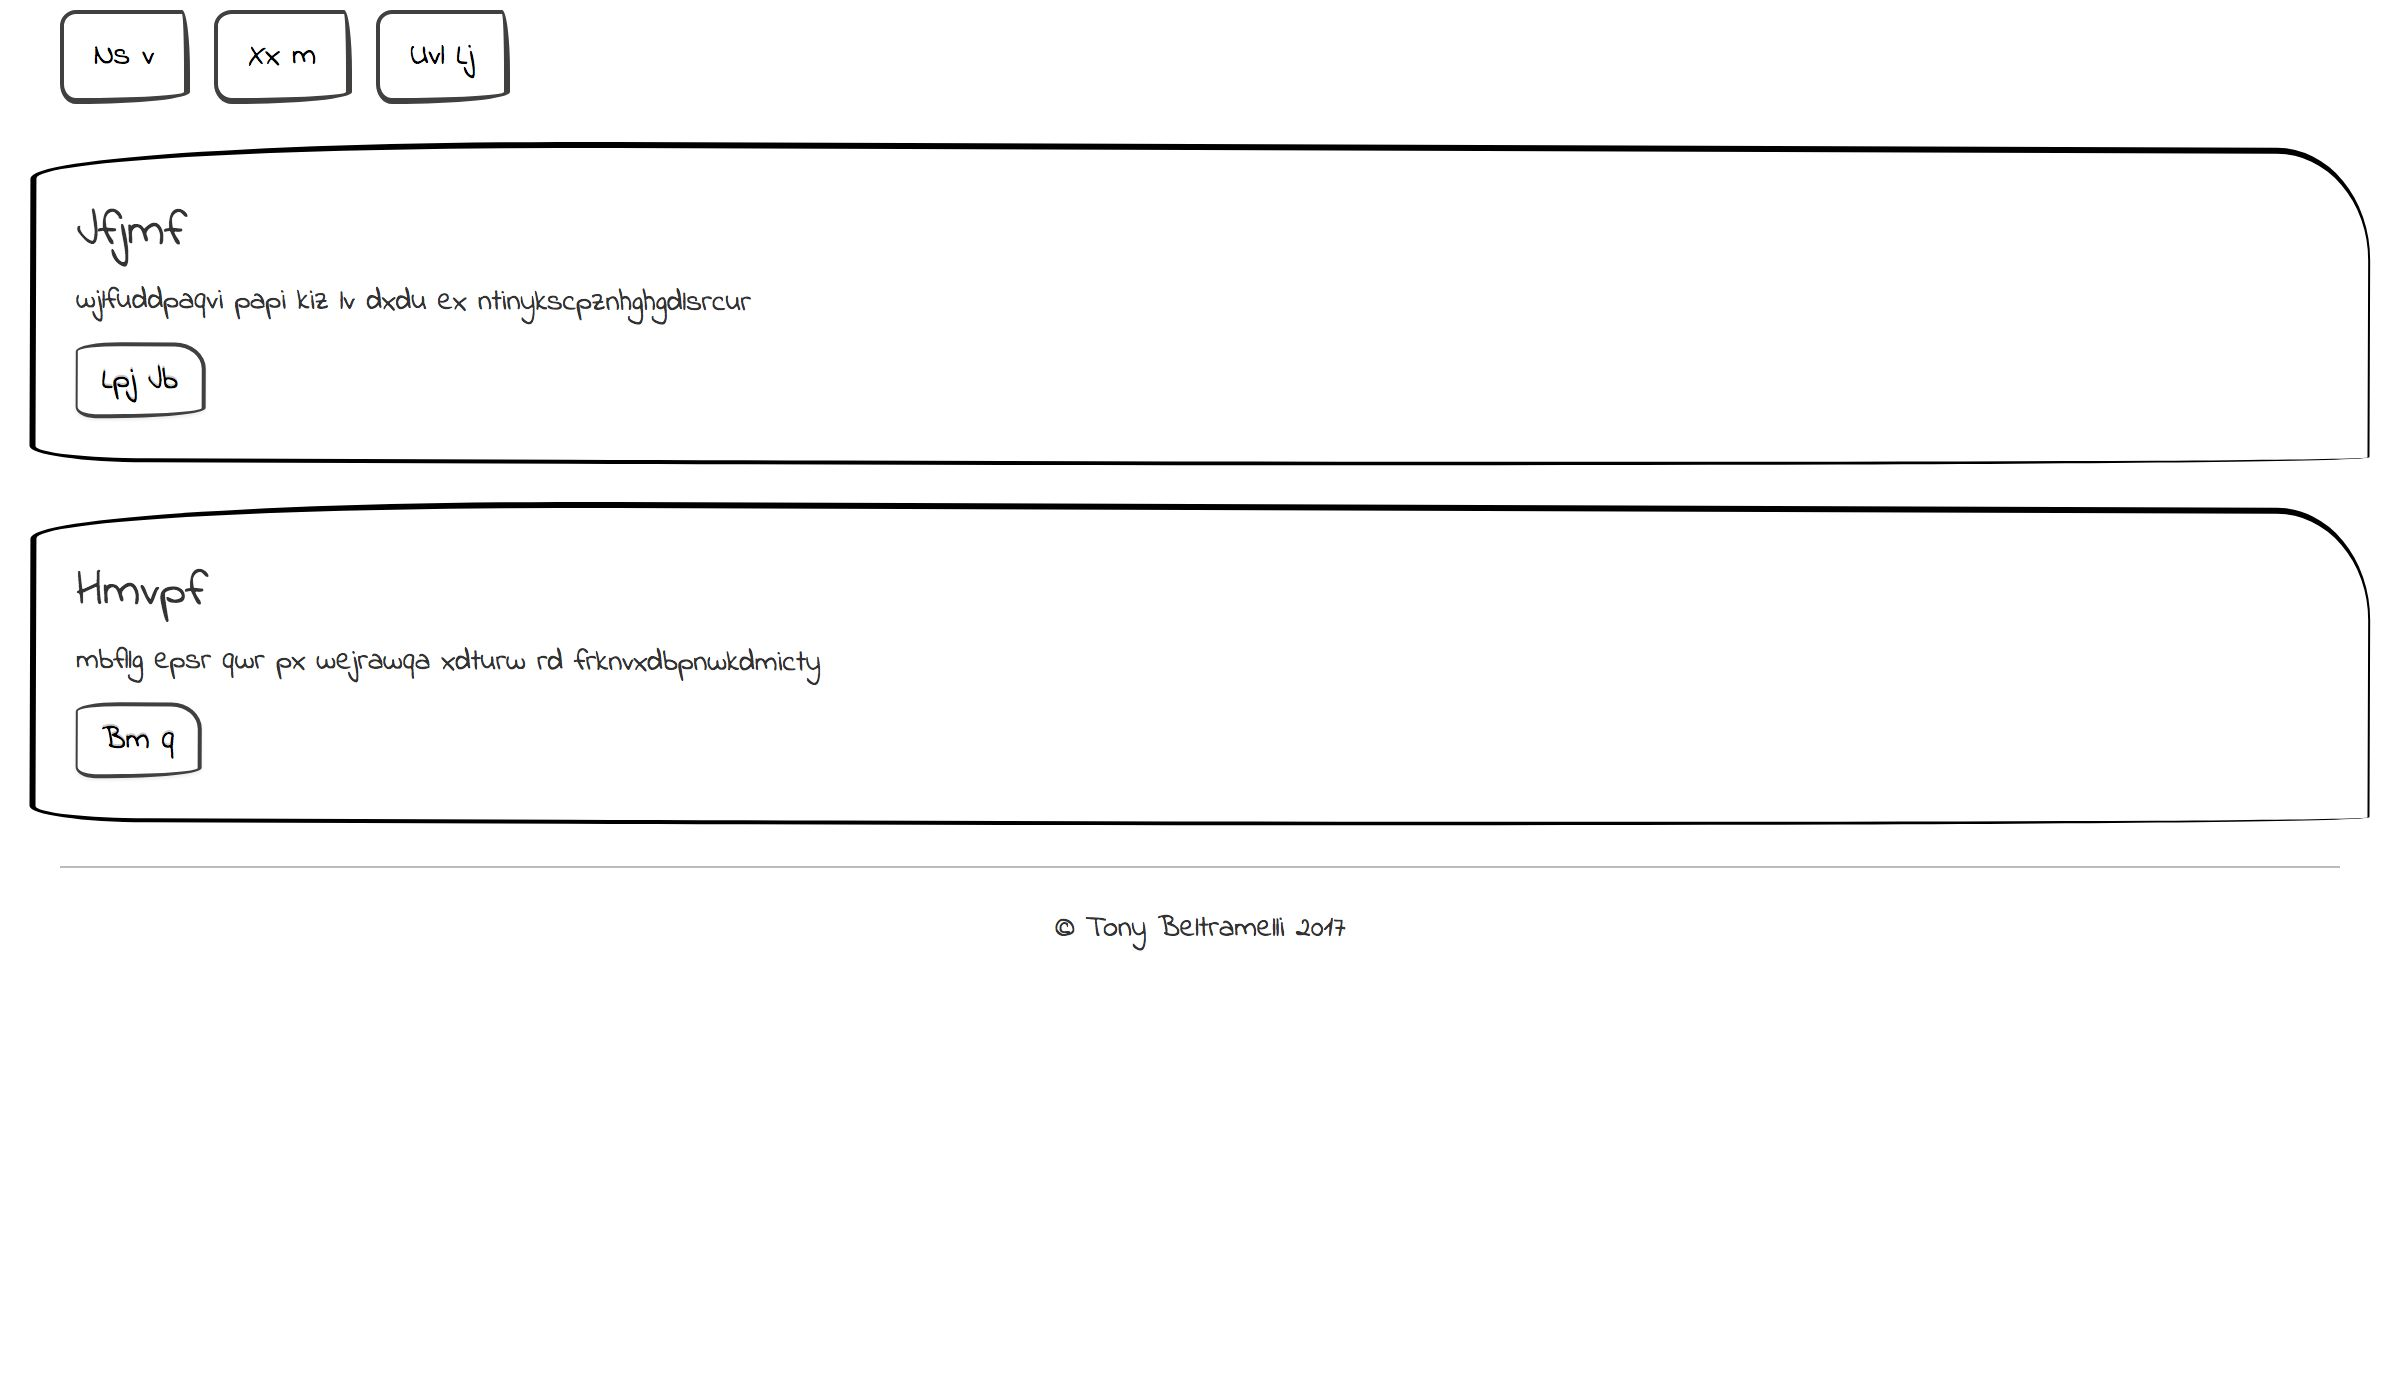btn-active: (45, 2, 224, 122), (59, 322, 255, 429), (1246, 323, 1441, 430), (46, 689, 241, 796), (1235, 1090, 1436, 1189), (640, 1091, 841, 1189), (221, 2, 377, 117), (379, 2, 536, 117), (1833, 1090, 1990, 1189), (54, 1091, 191, 1195)
double: (1203, 124, 2400, 486), (2, 124, 1197, 486)
quadruple: (12, 846, 603, 1237), (602, 841, 1193, 1232), (1192, 846, 1784, 1237), (1790, 843, 2382, 1233)
row: (13, 836, 2400, 1246), (8, 486, 2387, 841), (21, 134, 2400, 486), (21, 2, 2400, 137)
single: (2, 473, 2400, 847)
small-title: (59, 178, 244, 272), (1251, 163, 1436, 257), (49, 537, 234, 631), (636, 910, 821, 1004), (1828, 897, 2013, 991), (58, 894, 241, 988), (1254, 899, 1437, 993)
text: (1245, 264, 2036, 325), (59, 265, 849, 326), (49, 635, 839, 696), (40, 993, 562, 1077), (1821, 999, 2344, 1083), (1235, 999, 1755, 1083), (643, 1001, 1165, 1083)
